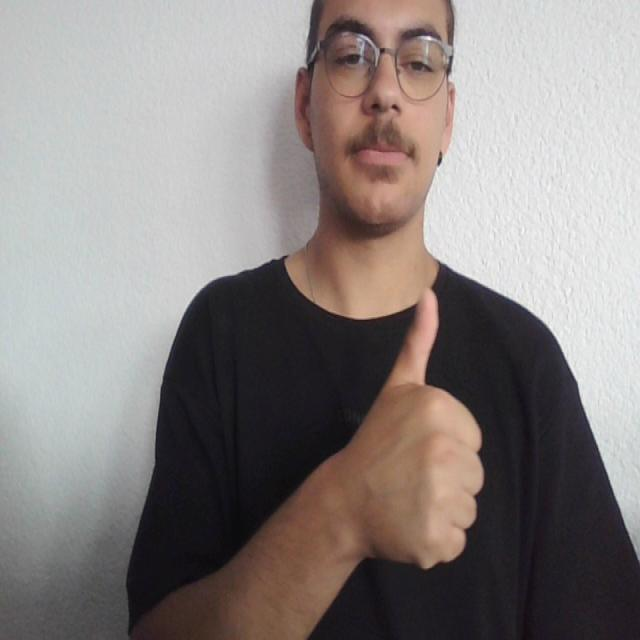Tamam: (330, 279, 490, 580)
